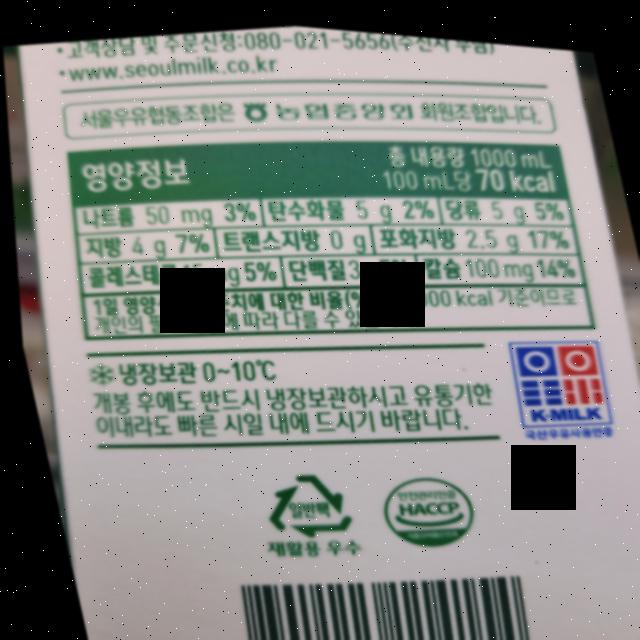NormalPack: (250, 454, 353, 543)
